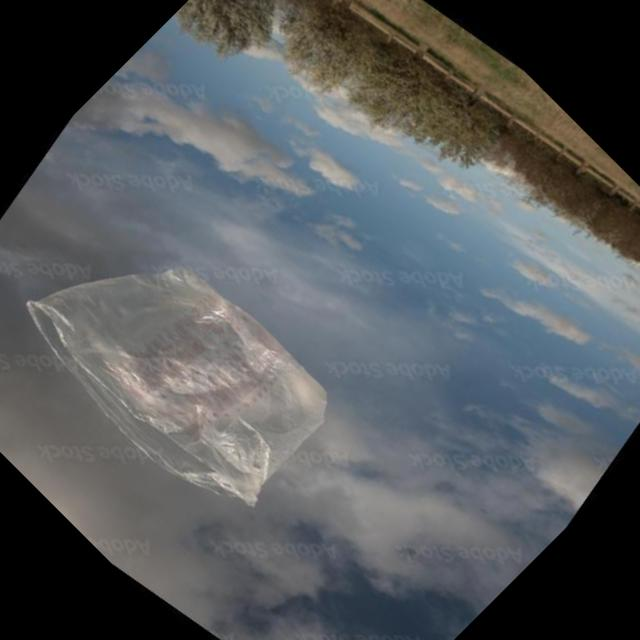KantongPlastik: (6, 195, 350, 539)
